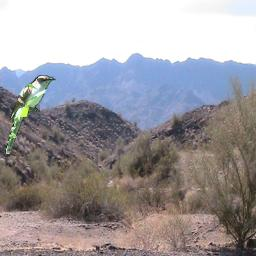Cuckoo: (5, 75, 56, 154)
